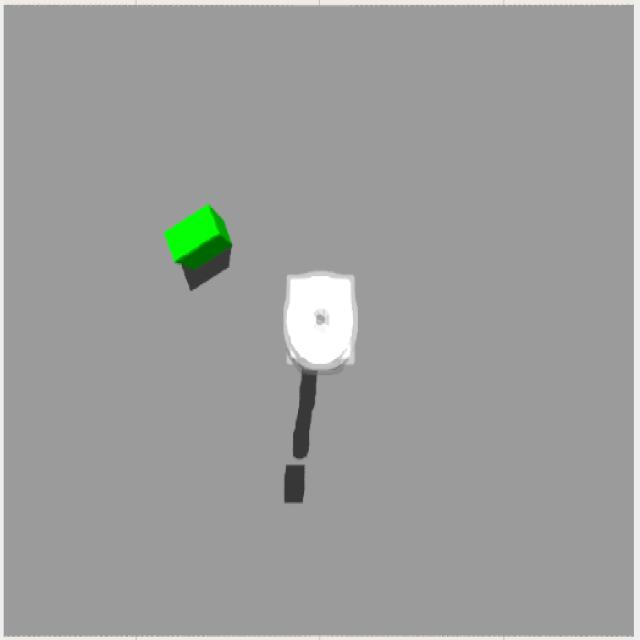box: (165, 205, 231, 268)
